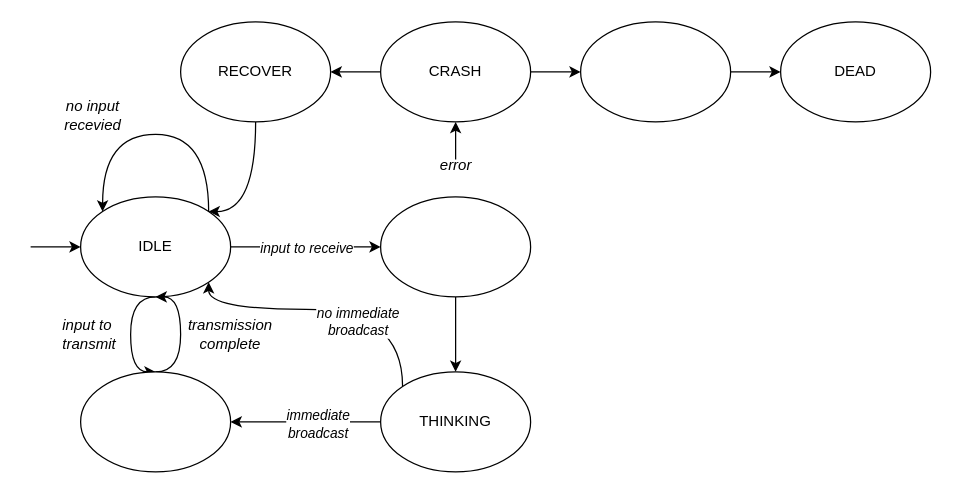
Some shapes in this 953 by 494 pixel diagram are drawn without their labels. Each missing label, with the box of its shape:
BROADCASTING: (79, 371, 231, 472)
DYING: (579, 21, 731, 122)
OBSERVING: (379, 196, 531, 297)
